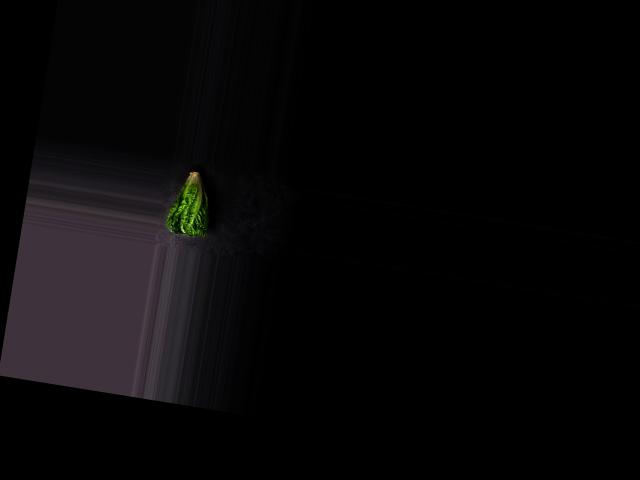lettuce: (163, 163, 220, 239)
